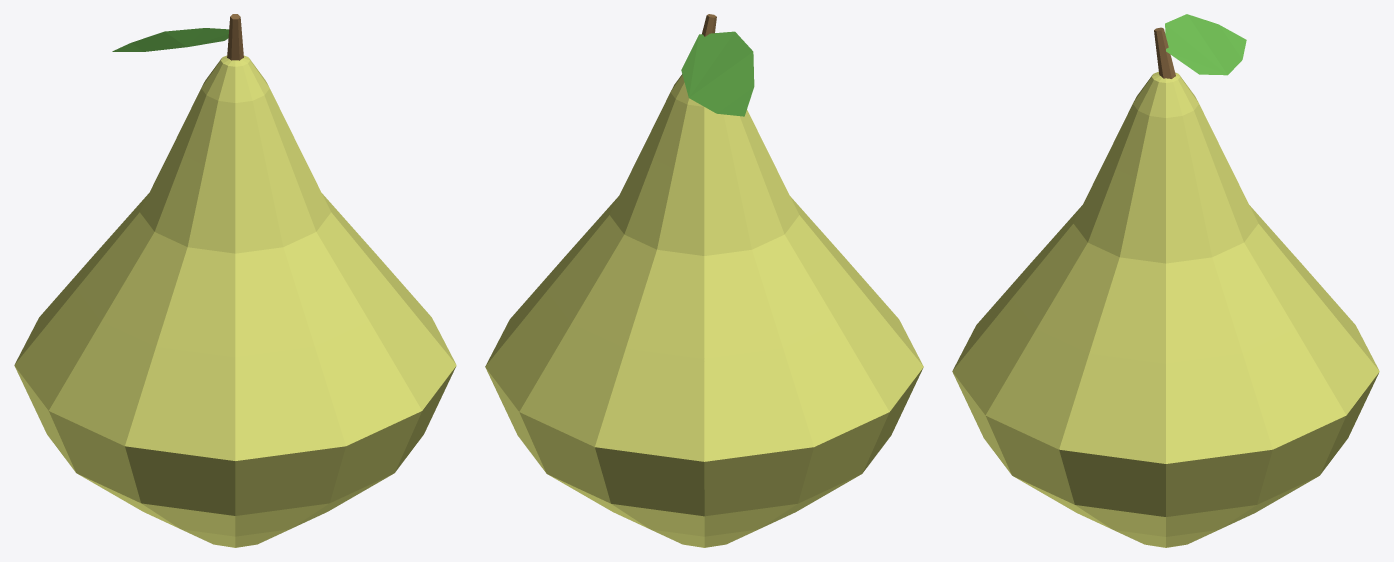
File: pear.fbx
3 views of the same model, side by side, from view 1: azimuth 30°, elevation 25°; view 2: azimuth 150°, elevation 25°; view 3: azimuth 270°, elevation 25° (orthographic). The views are drawn at different scales.
Parts seen in each view (by area): view 1: LowPoly_Pear; view 2: LowPoly_Pear; view 3: LowPoly_Pear.
Part boxes in pixels (x1,y1,x2,y2): LowPoly_Pear: (14, 14, 456, 547); LowPoly_Pear: (485, 14, 923, 547); LowPoly_Pear: (952, 14, 1379, 547).
Size of the model in its own units: 210 by 281 by 210.
